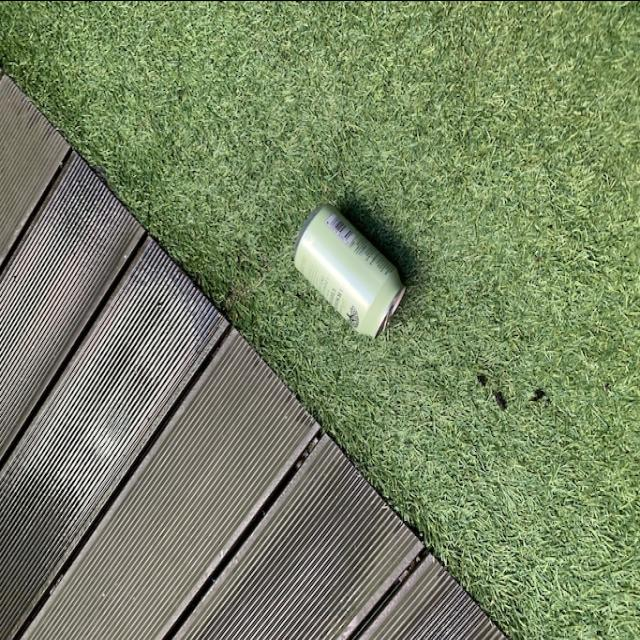Aluminum Can: (297, 184, 407, 336)
